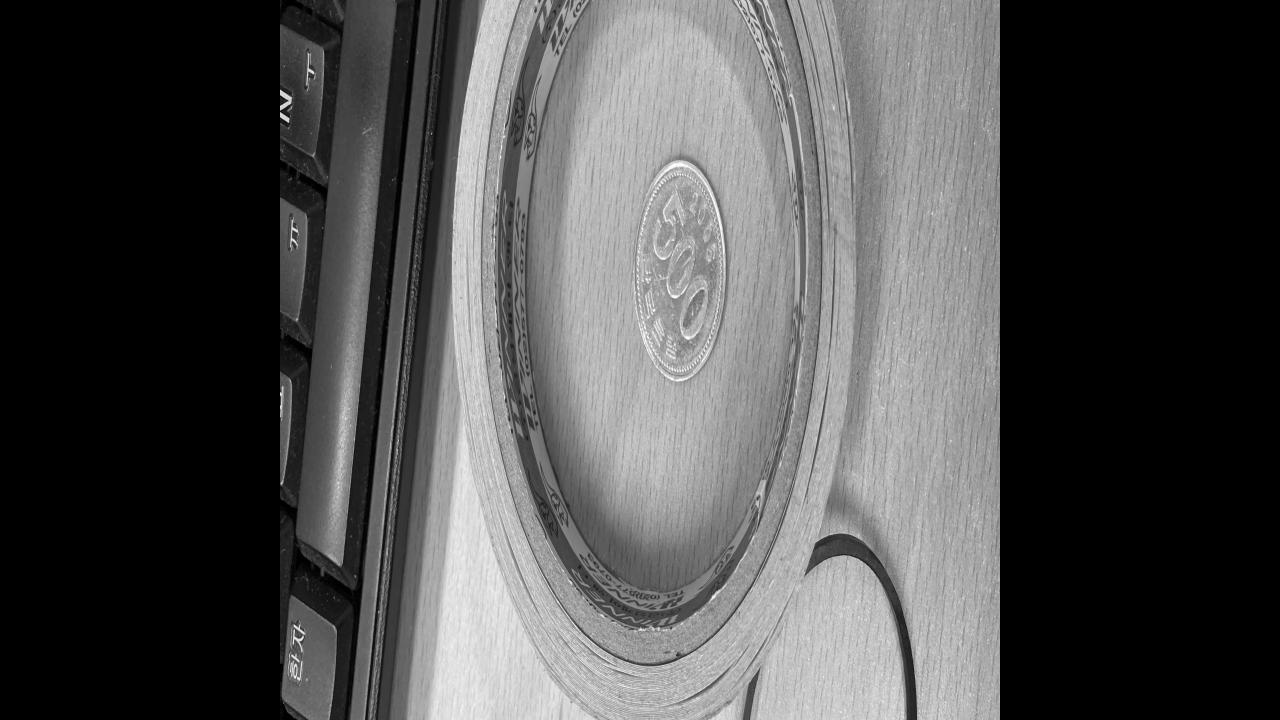coin: (634, 150, 730, 382)
